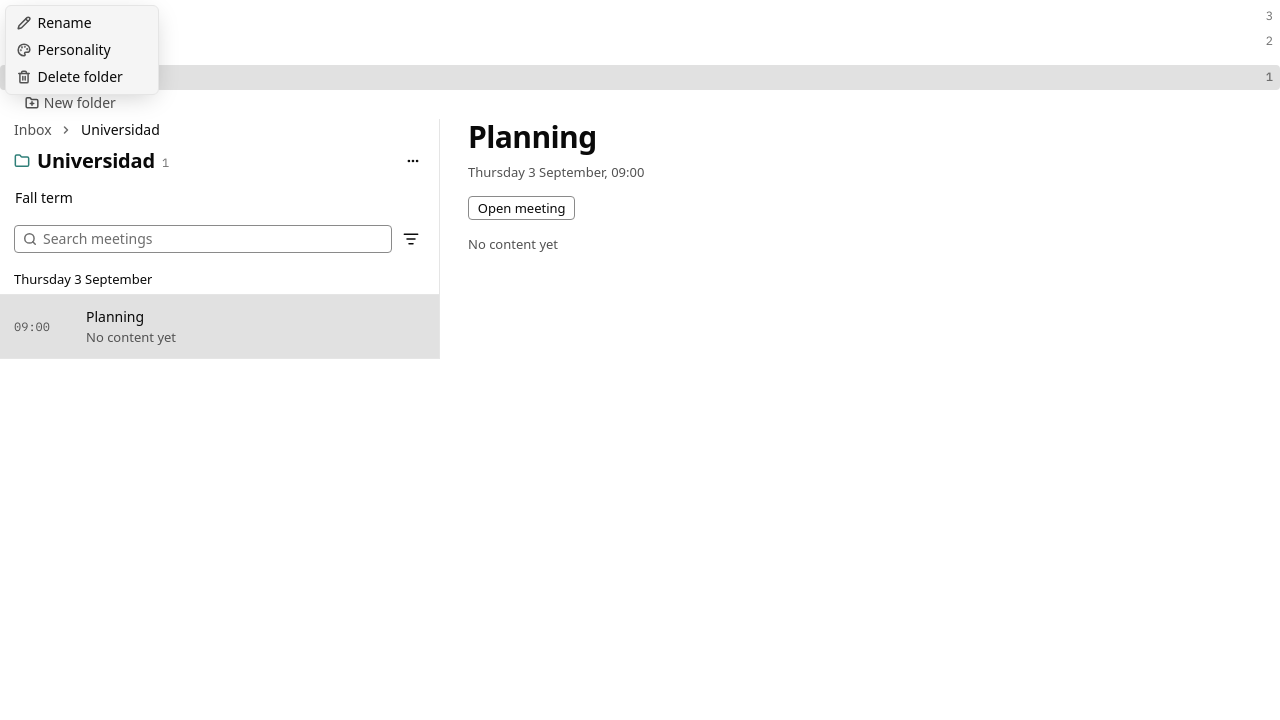
folders › renames from the context menu and keeps the folder selected
Step 1. Click the menu item "Rename" → [54, 22], box [16,13,92,32]
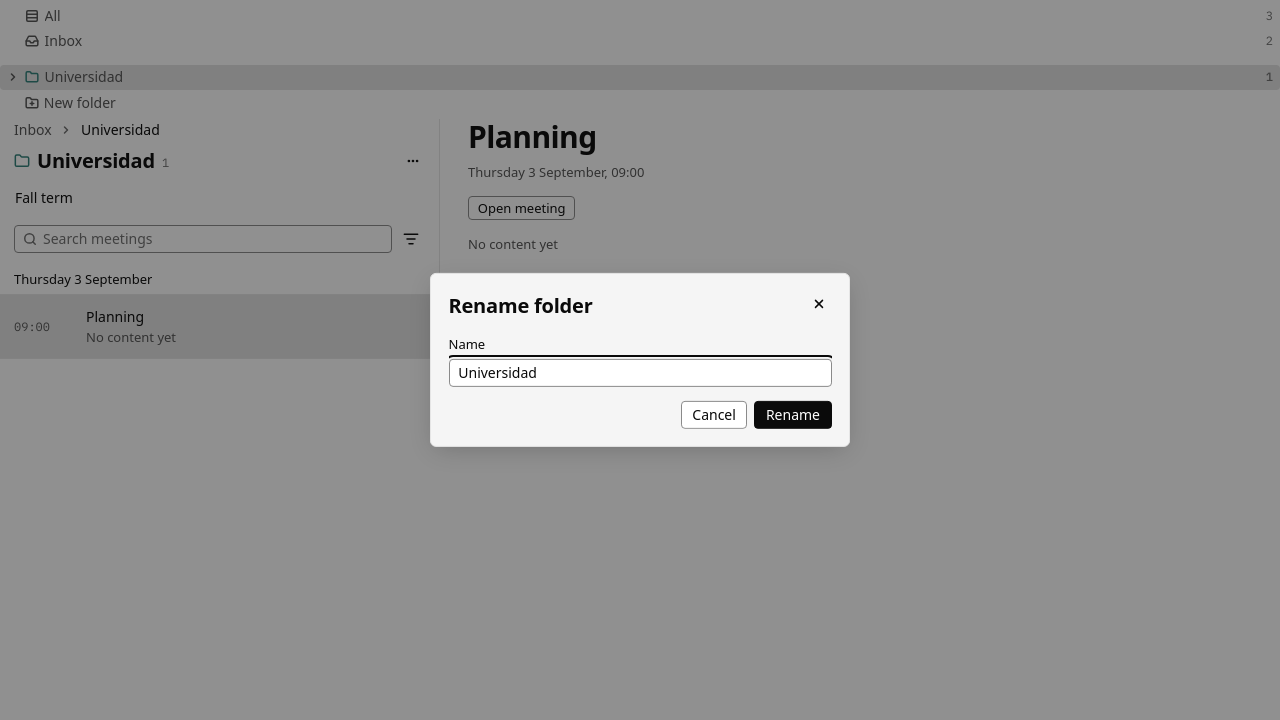
Check: the field labelled "Name" holds "Universidad"
Step 2. Replace the text in the field labelled "Name" with "Estudios" → [640, 373], box [448,359,832,387]
Then press Enter
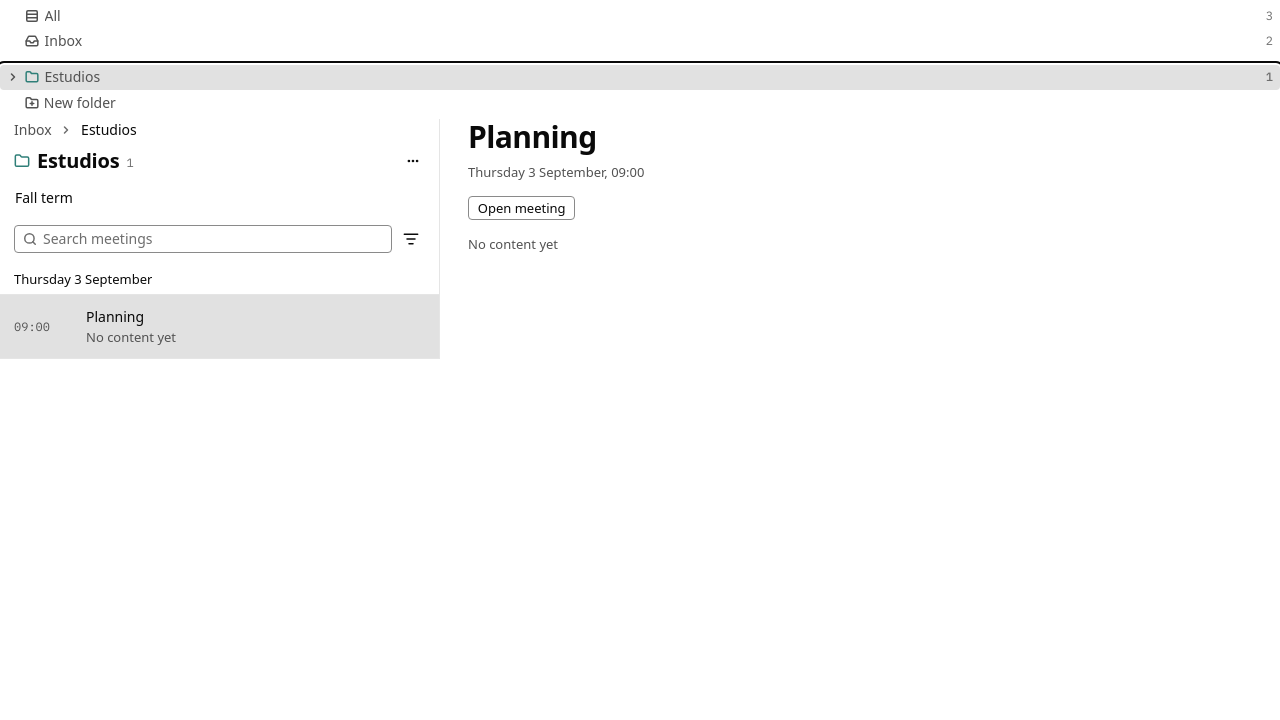
Check: the text "Estudios" is shown, box [44,67,100,87]
